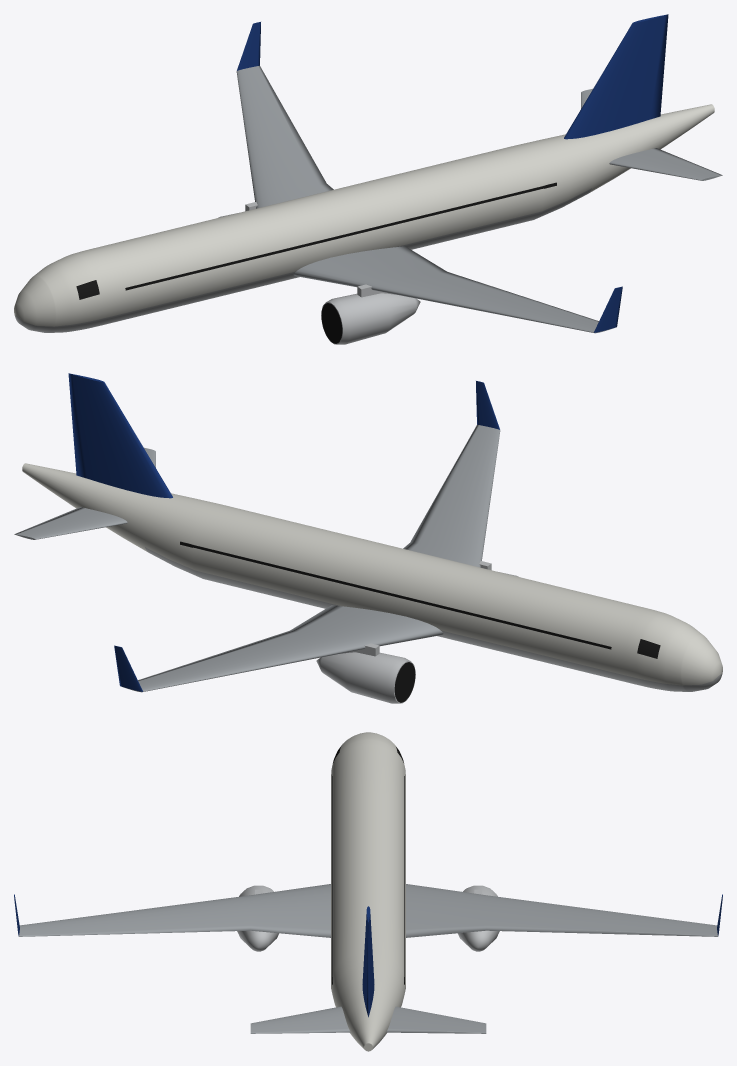
Rendered from bcs3.glb.
3 renders of one model, top to bottom at view 1: azimuth 30°, elevation 25°; view 2: azimuth 150°, elevation 25°; view 3: azimuth 270°, elevation 25°, orthographic. The views are drawn at different scales.
Visible parts, largest first — view 1: bcs3; view 2: bcs3; view 3: bcs3.
Part boxes in pixels (x1,y1,x2,y2): bcs3: (14,14,722,344); bcs3: (14,373,722,703); bcs3: (14,732,722,1051).
Size of the model in its own units: 38.7 by 10.28 by 34.88.
